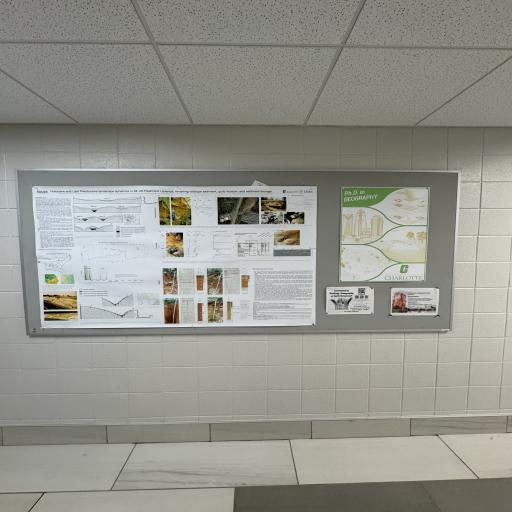poster board: (15, 166, 461, 339)
